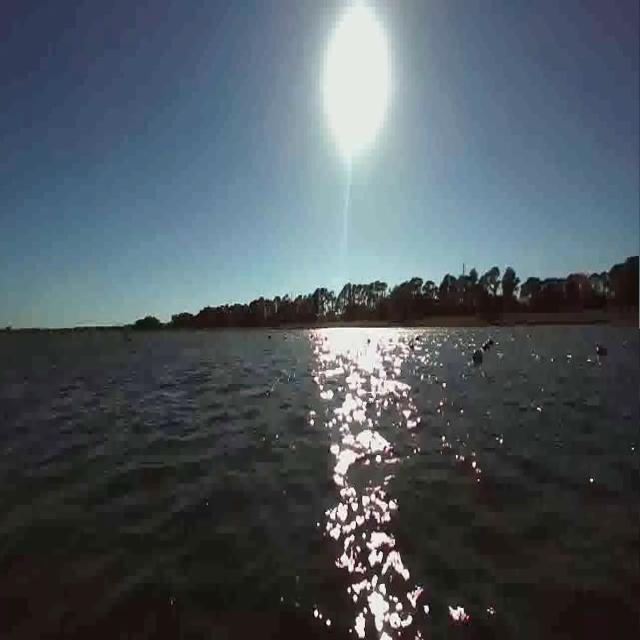green-buoy: (472, 349, 482, 365)
